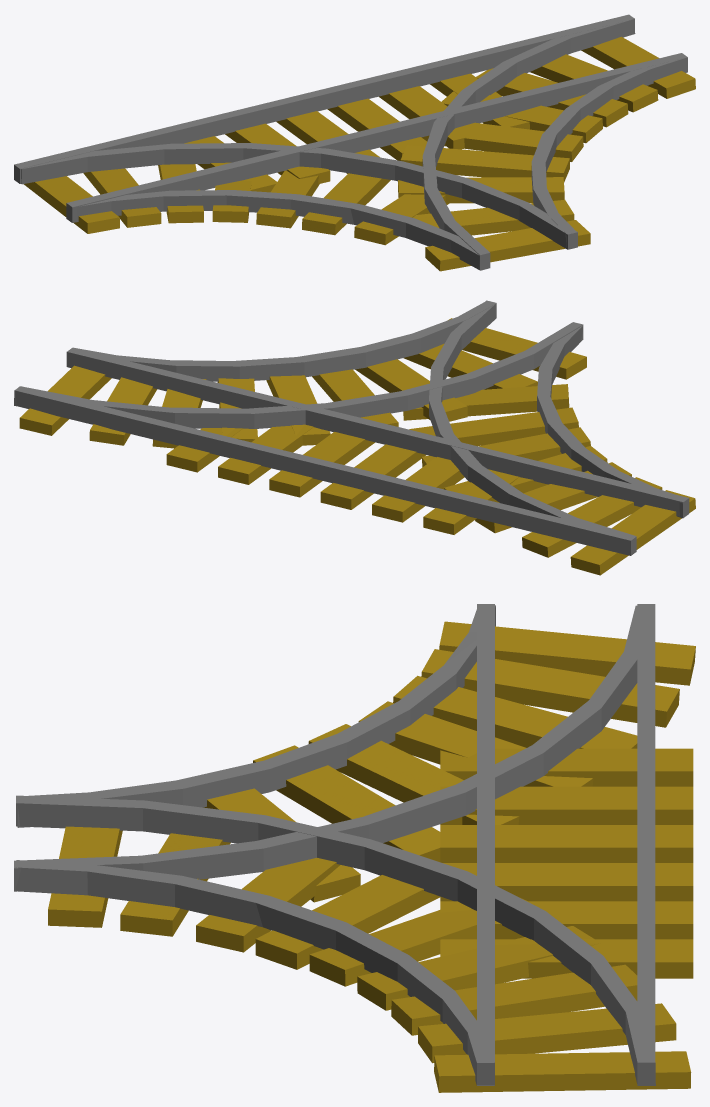
Rendered from Three Way Junction.fbx.
3 views of the same model, one above another, from view 1: azimuth 30°, elevation 25°; view 2: azimuth 150°, elevation 25°; view 3: azimuth 270°, elevation 25° (orthographic). The views are drawn at different scales.
Visible parts, largest first — view 1: Circle.002, Track Left.004, Track Left.005, Circle.001, Circle.000, Circle.004, Cube.007, Cube.019, Cube.017, Cube.014, Cube.026, Cube.021 (+16 smaller); view 2: Track Left.004, Track Left.005, Circle.000, Circle.004, Circle.002, Circle.001, Cube.026, Cube.021, Cube.006, Cube.032, Cube.033, Cube.025 (+16 smaller); view 3: Circle.000, Circle.002, Circle.004, Circle.001, Track Left.004, Track Left.005, Cube.014, Cube.032, Cube.033, Cube.034, Cube.026, Cube.015 (+16 smaller).
Part boxes in pixels (box(x1,y1,x2,y2)): Circle.002: box(21, 143, 577, 249); Track Left.004: box(14, 14, 634, 183); Track Left.005: box(66, 53, 686, 222); Circle.001: box(66, 190, 488, 270); Circle.000: box(422, 17, 635, 270); Circle.004: box(531, 53, 687, 246); Cube.007: box(400, 145, 569, 182); Cube.019: box(425, 220, 590, 271); Cube.017: box(422, 122, 583, 161); Cube.014: box(581, 36, 695, 98); Cube.026: box(23, 176, 119, 233); Cube.021: box(302, 173, 390, 235); Track Left.004: box(15, 386, 636, 555); Track Left.005: box(67, 347, 689, 517); Circle.000: box(14, 322, 583, 428); Circle.004: box(66, 301, 496, 381); Circle.002: box(429, 300, 634, 535); Circle.001: box(537, 325, 688, 518); Cube.026: box(570, 490, 695, 575); Cube.021: box(409, 407, 578, 446); Cube.006: box(403, 384, 569, 420); Cube.032: box(320, 444, 426, 509); Cube.033: box(269, 432, 374, 497); Cube.025: box(522, 477, 662, 557); Circle.000: box(16, 795, 655, 1085); Circle.002: box(14, 605, 637, 891); Circle.004: box(15, 860, 494, 1085); Circle.001: box(17, 605, 495, 827); Track Left.004: box(637, 604, 655, 1085); Track Left.005: box(477, 604, 494, 1085); Cube.014: box(434, 1051, 691, 1092); Cube.032: box(440, 825, 693, 862); Cube.033: box(440, 863, 693, 901); Cube.034: box(440, 786, 693, 824); Cube.026: box(439, 621, 695, 685); Cube.015: box(418, 1003, 676, 1063).
Size of the model in its own units: 1501 by 69.83 by 944.
